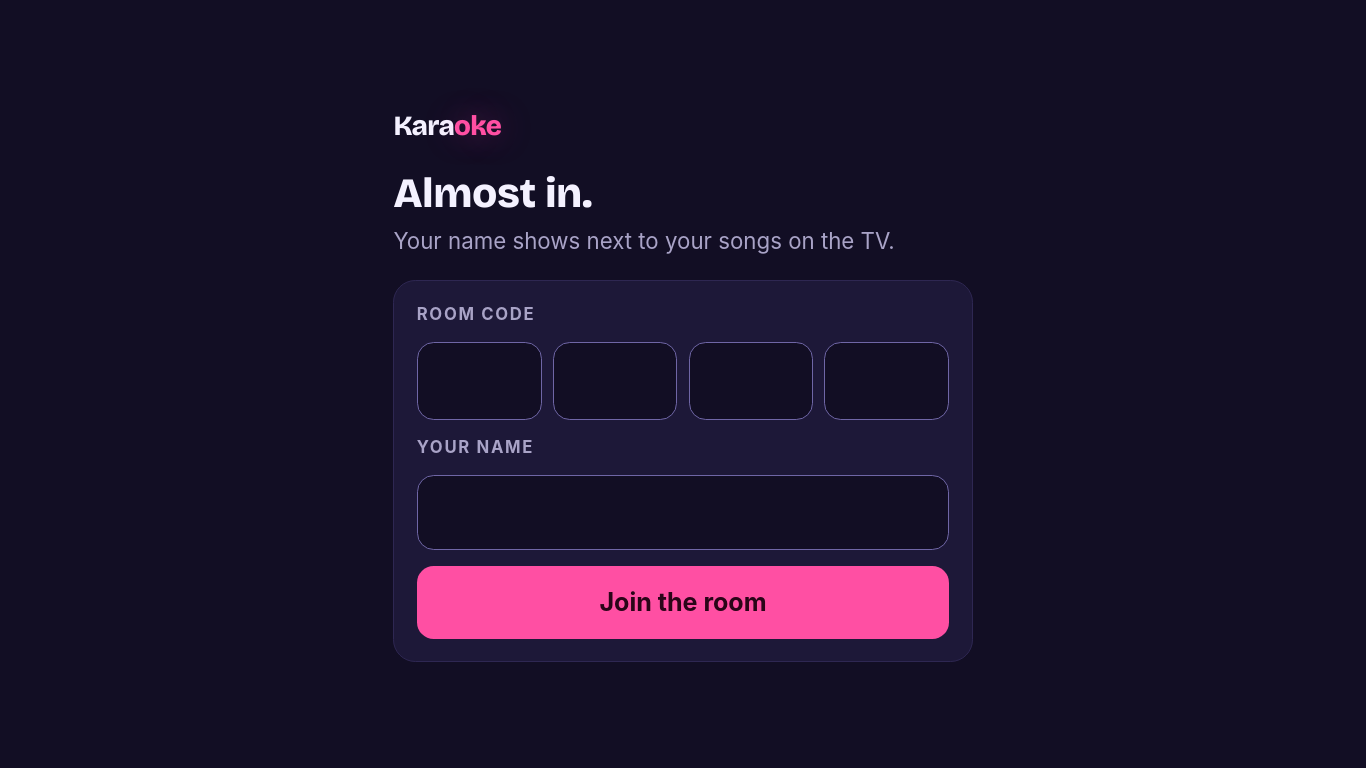
Test: Join › searches once typing pauses
Type "ABCD" into the field labelled "Room code". click: {"x": 750, "y": 381}
box: [417,342,1082,420]
Type "Sam" into the field labelled "Your name". click: {"x": 683, "y": 512}
box: [417,475,949,550]
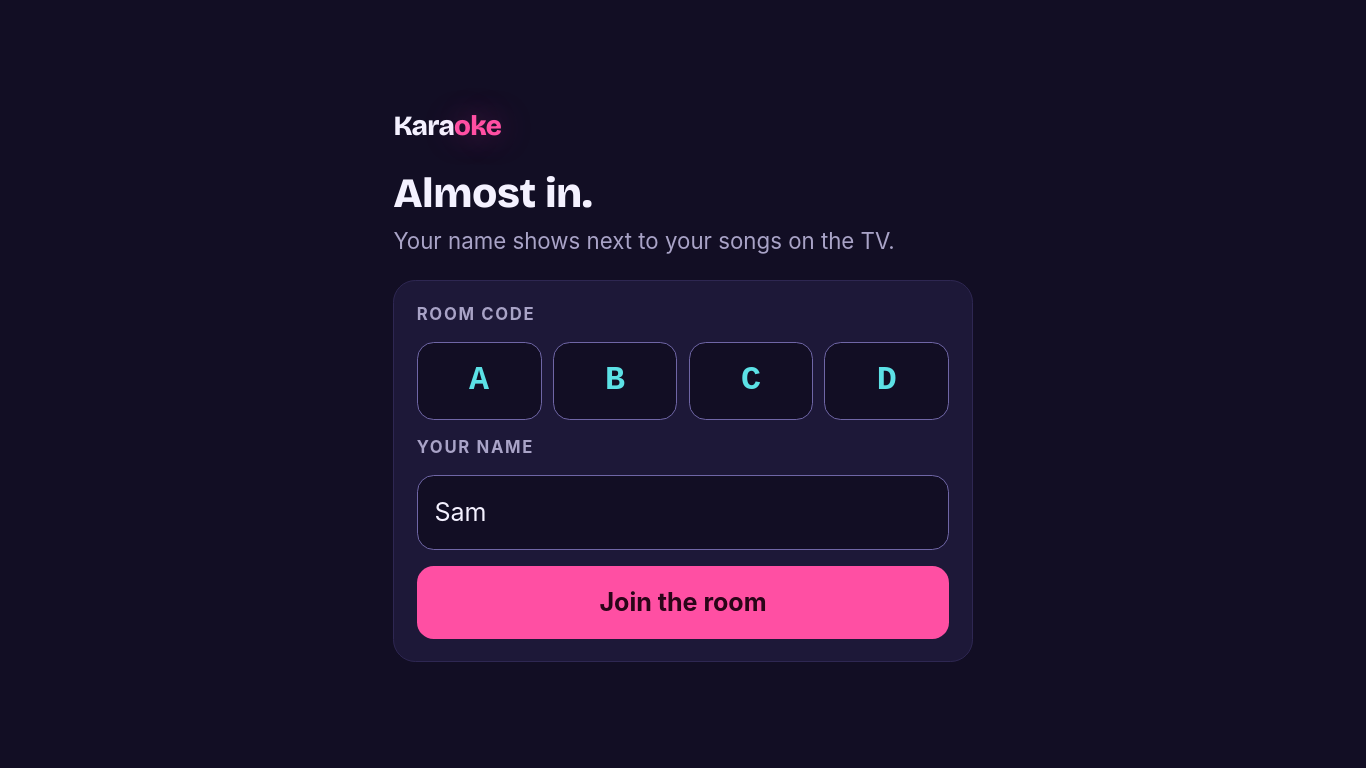
Click the button "Join the room". click: {"x": 683, "y": 603}
box: [417,566,949,639]
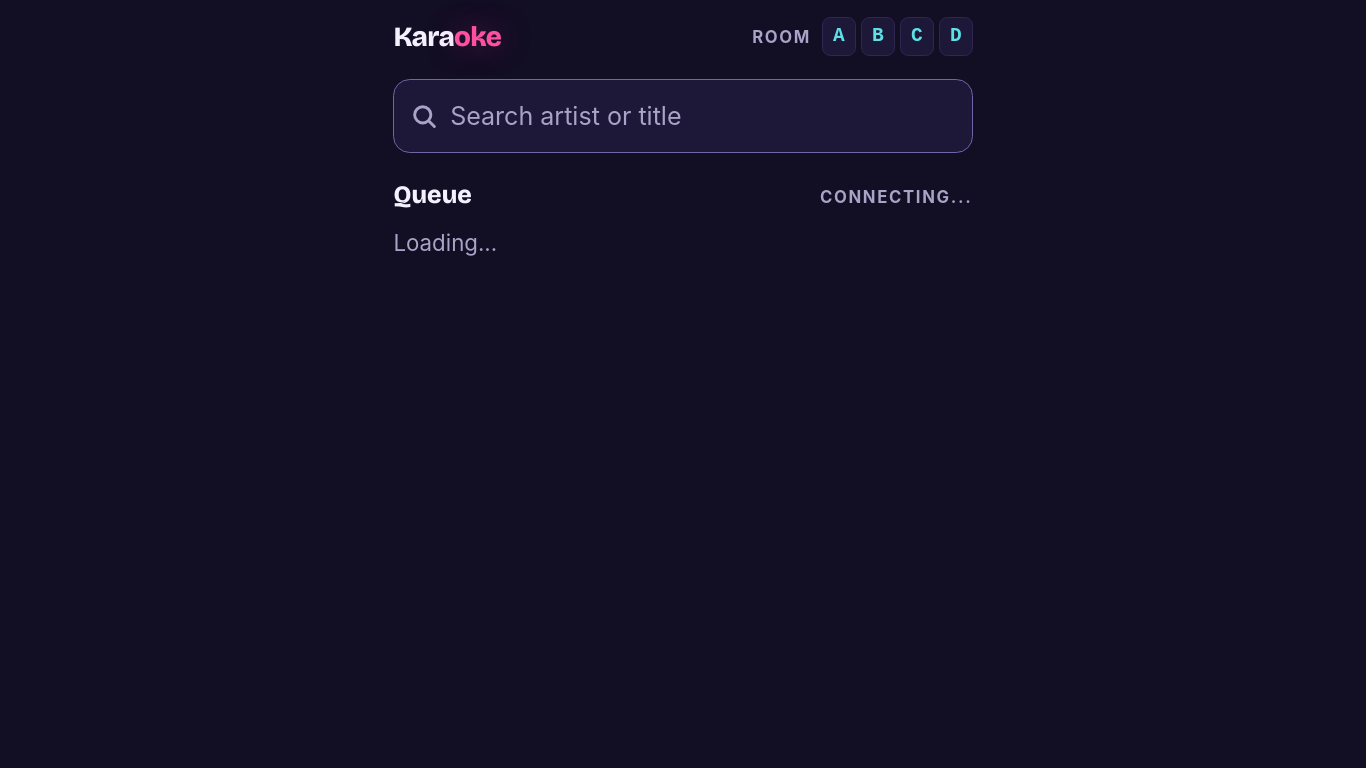
Type "r" into the search field named "Search songs". click: {"x": 683, "y": 116}
box: [394,79,973,153]
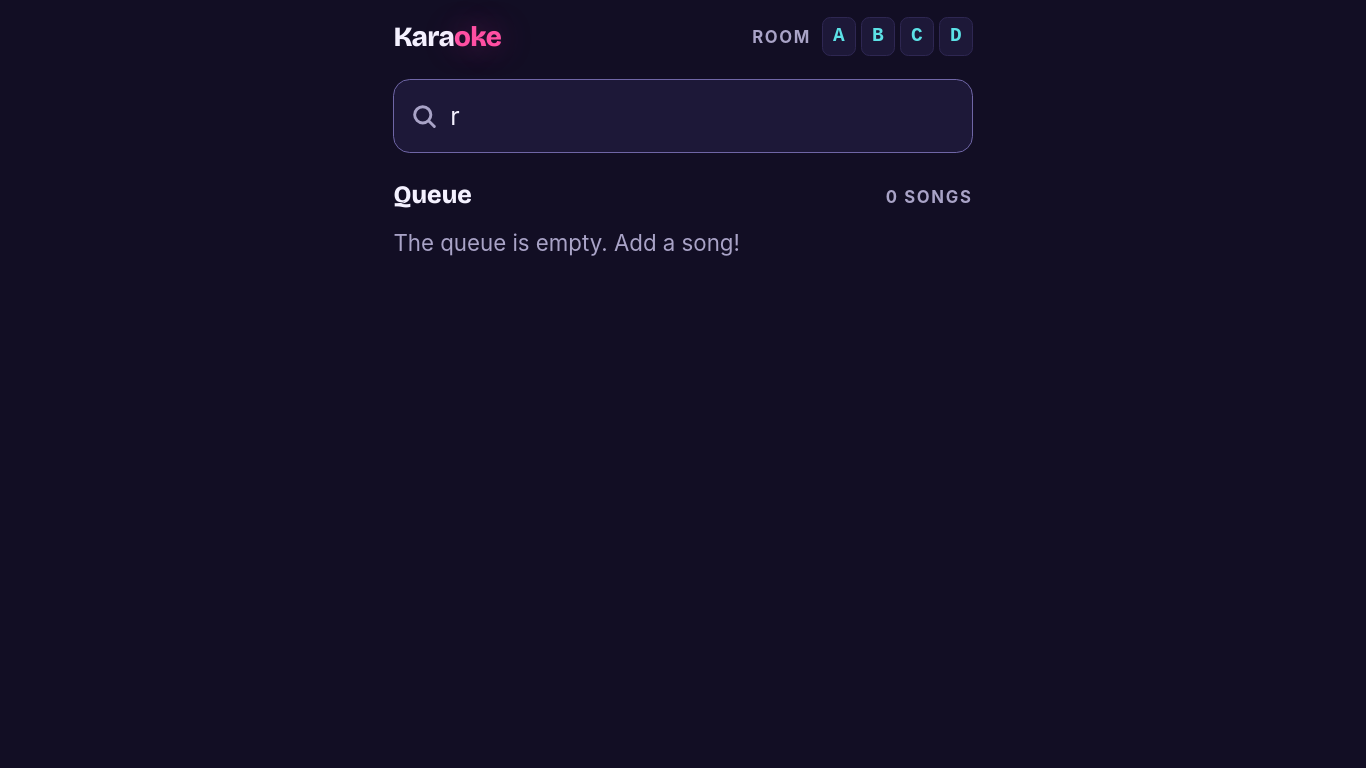
Replace the text in the search field named "Search songs" with "ri". click: {"x": 683, "y": 116}
box: [394,79,973,153]
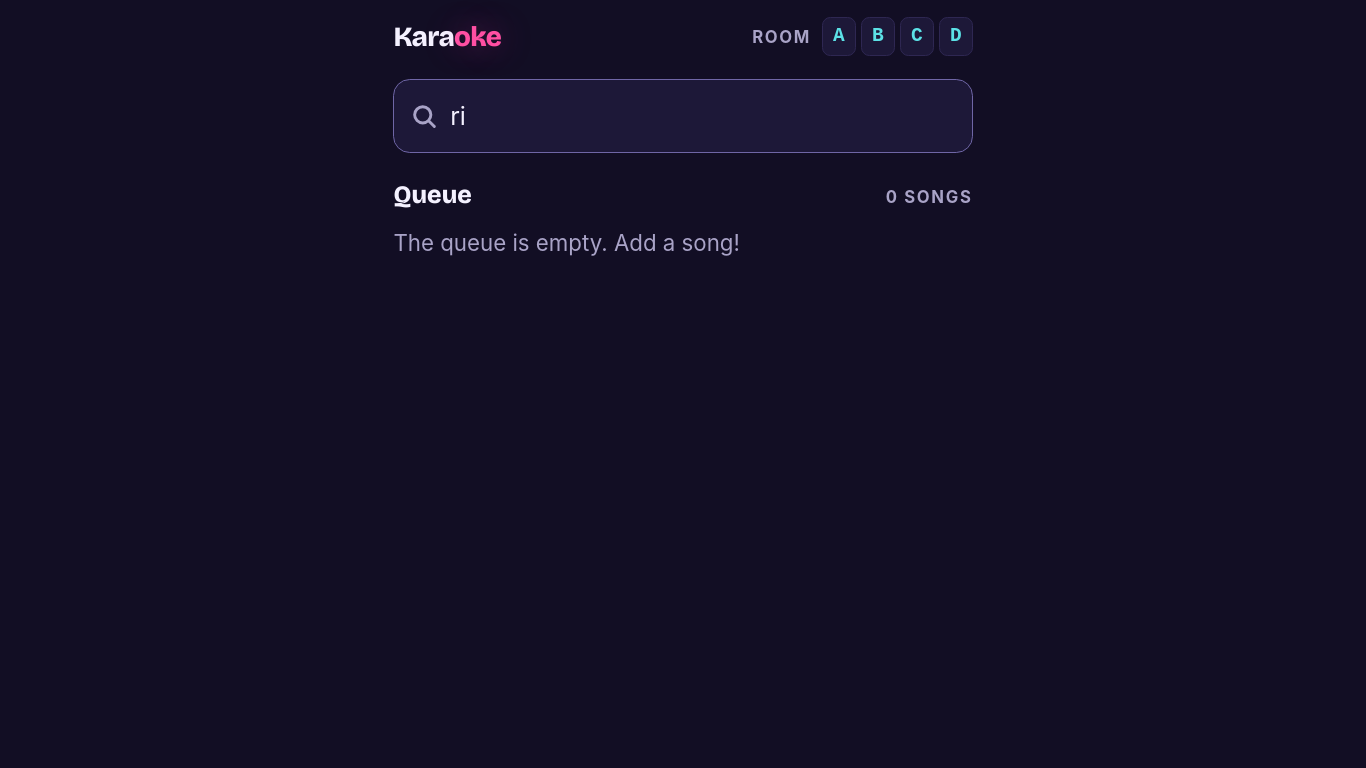
Replace the text in the search field named "Search songs" with "ric". click: {"x": 683, "y": 116}
box: [394,79,973,153]
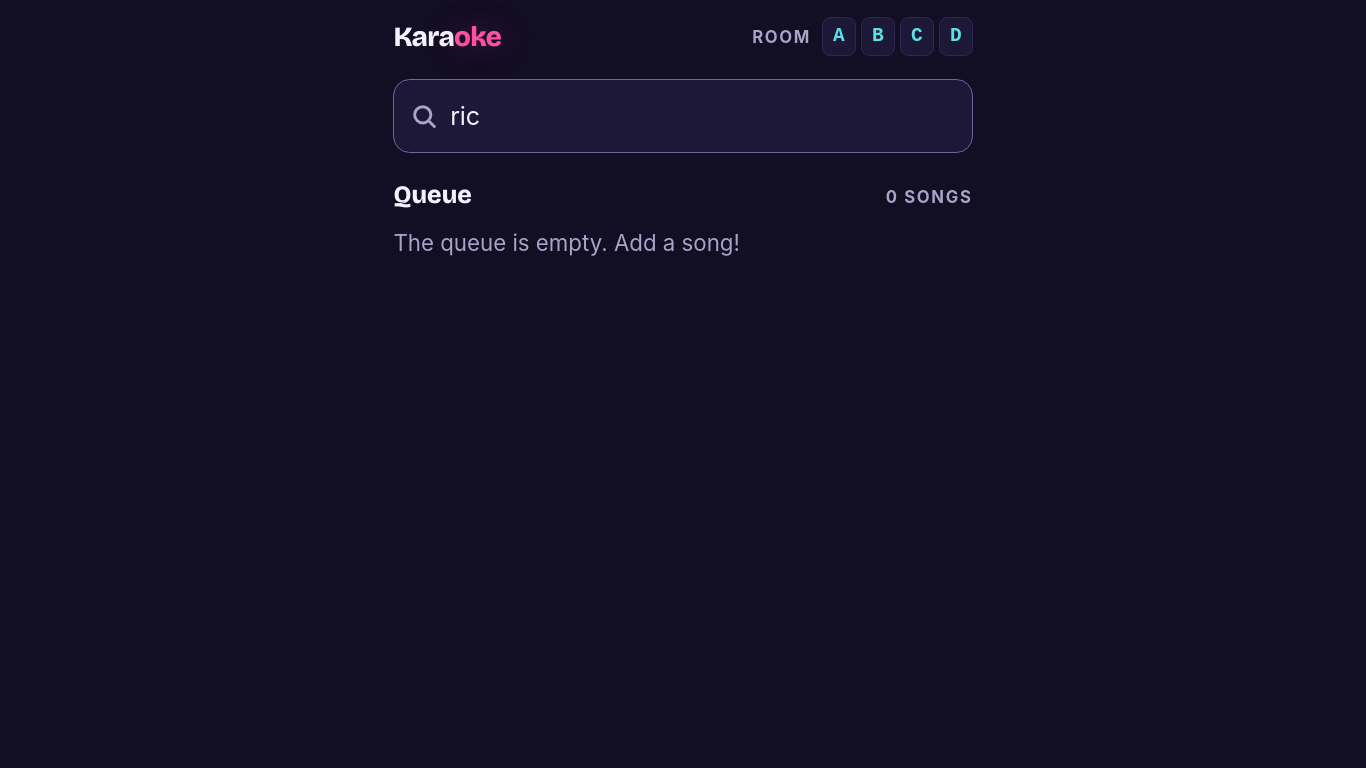
Replace the text in the search field named "Search songs" with "rick". click: {"x": 683, "y": 116}
box: [394,79,973,153]
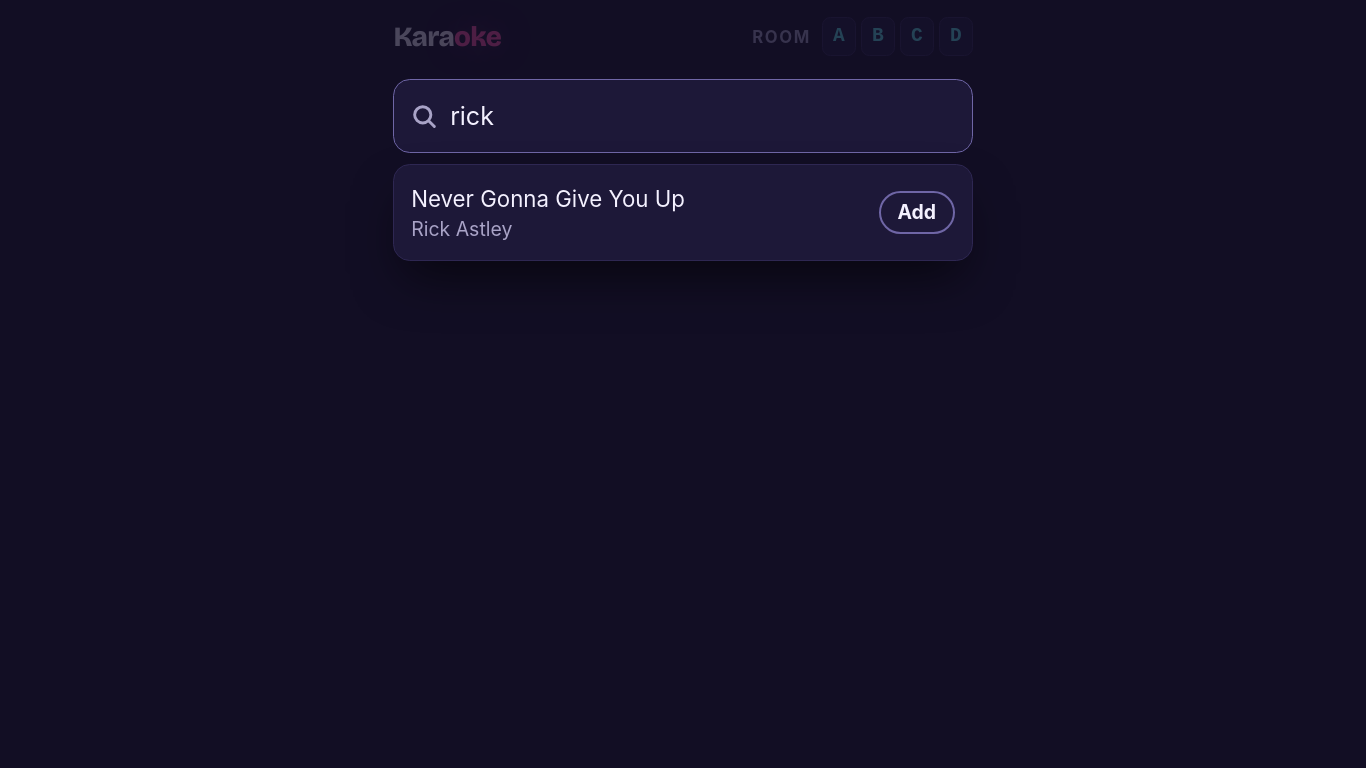
Expected: the button "Never Gonna Give You Up Rick Astley Add" is shown, [394,165,972,260]
